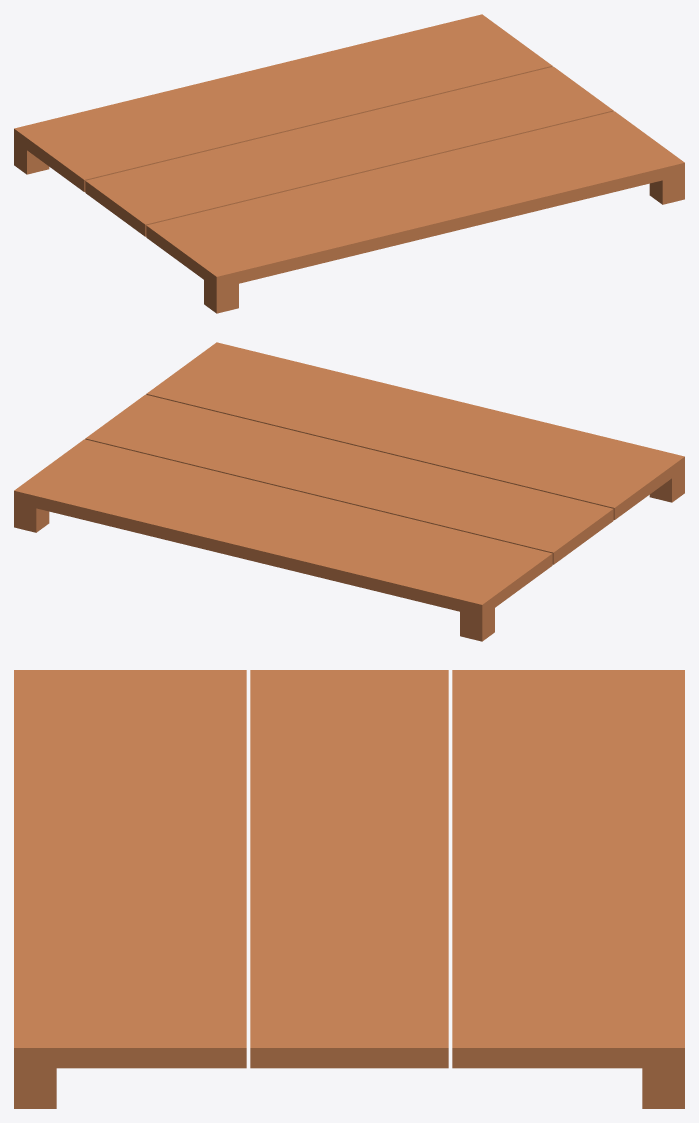
File: Props_BoxFrame_02.fbx
3 views of the same model, one above another, from view 1: azimuth 30°, elevation 25°; view 2: azimuth 150°, elevation 25°; view 3: azimuth 270°, elevation 25° (orthographic). The views are drawn at different scales.
Parts seen in each view (by area): view 1: Props_BoxFrame_02; view 2: Props_BoxFrame_02; view 3: Props_BoxFrame_02.
Part boxes in pixels (bbox=[...]): Props_BoxFrame_02: bbox=[14, 14, 684, 313]; Props_BoxFrame_02: bbox=[14, 342, 684, 641]; Props_BoxFrame_02: bbox=[14, 670, 684, 1108].
Bounding box in the file's own units: 199 × 14.89 × 149.
